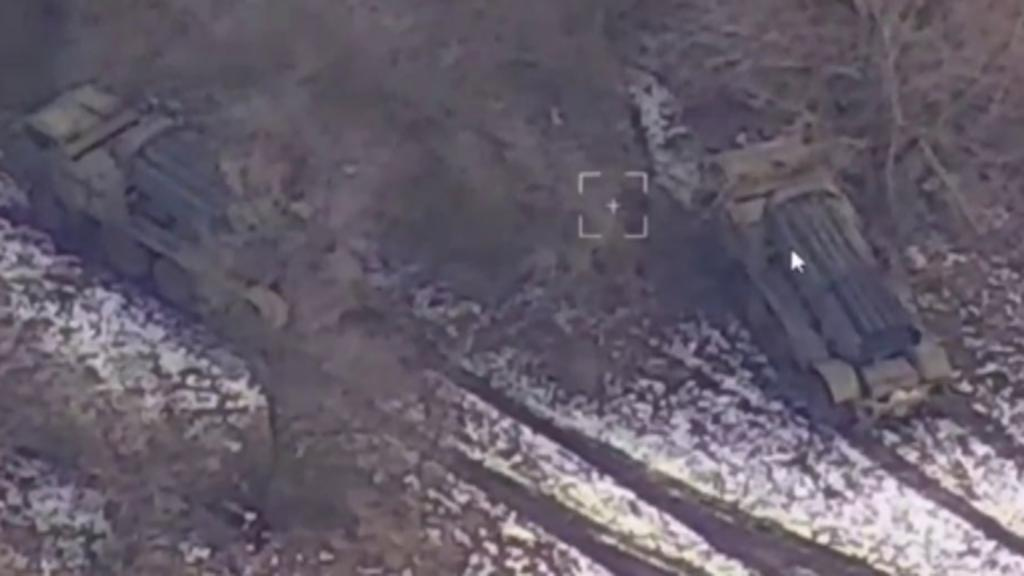MLRS: (12, 78, 362, 344), (674, 129, 942, 437)
